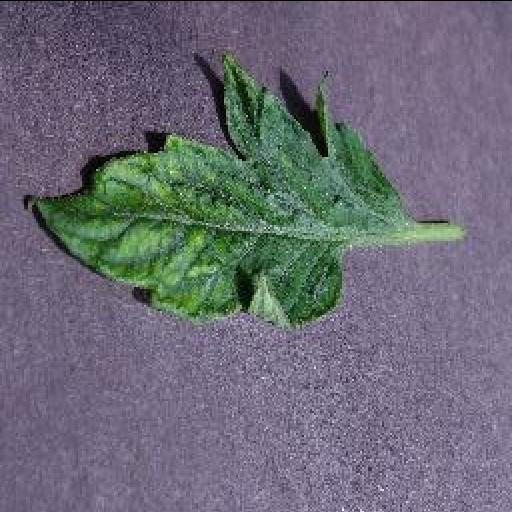Mosaic Virus: (20, 53, 410, 331)
